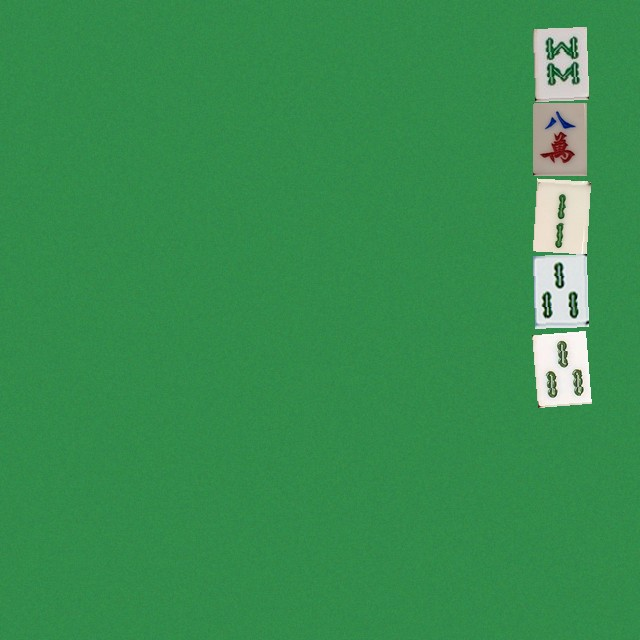tile: (532, 26, 586, 99), (532, 102, 586, 175), (532, 178, 586, 251), (532, 254, 586, 327), (532, 330, 586, 403)
